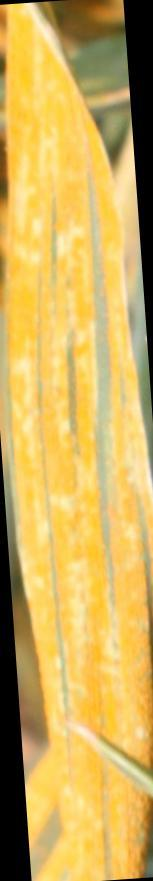Wheat: (56, 123, 152, 749), (13, 29, 72, 538)
